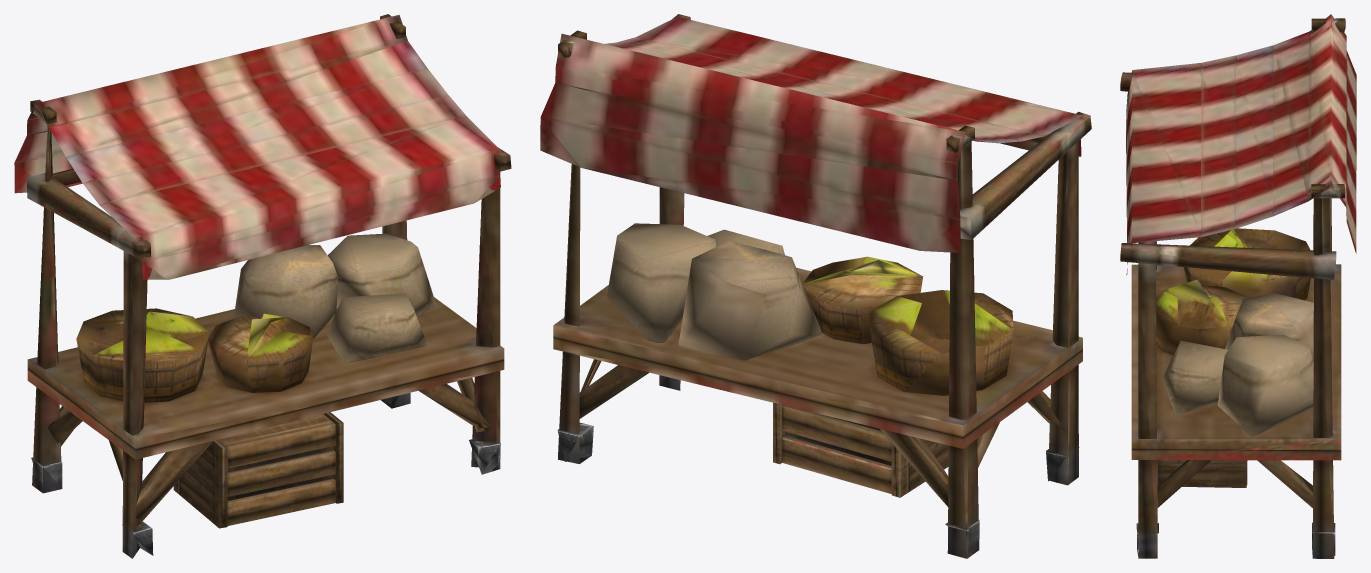
The model's file is prop-market-stall.glb.
3 views of the same model, side by side, from view 1: azimuth 30°, elevation 25°; view 2: azimuth 150°, elevation 25°; view 3: azimuth 270°, elevation 25° (orthographic). The views are drawn at different scales.
Bounding box in the file's own units: 0.958 × 0.9263 × 0.5337.
1 material, 1 textured.
